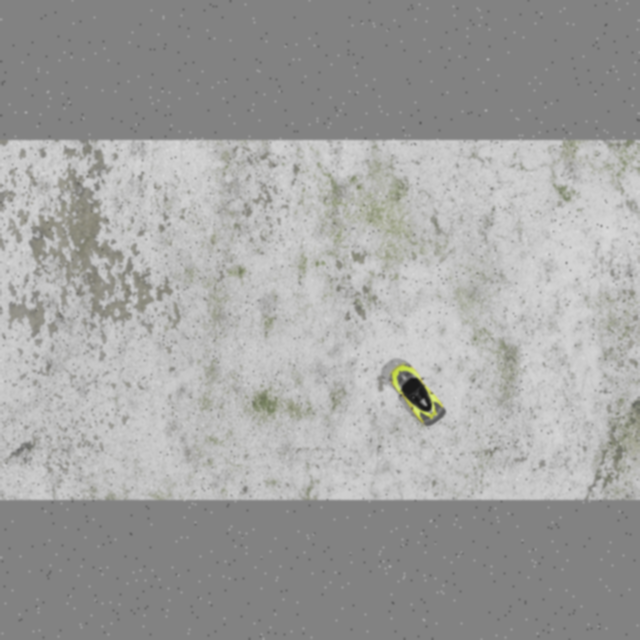car: (382, 358, 450, 431)
